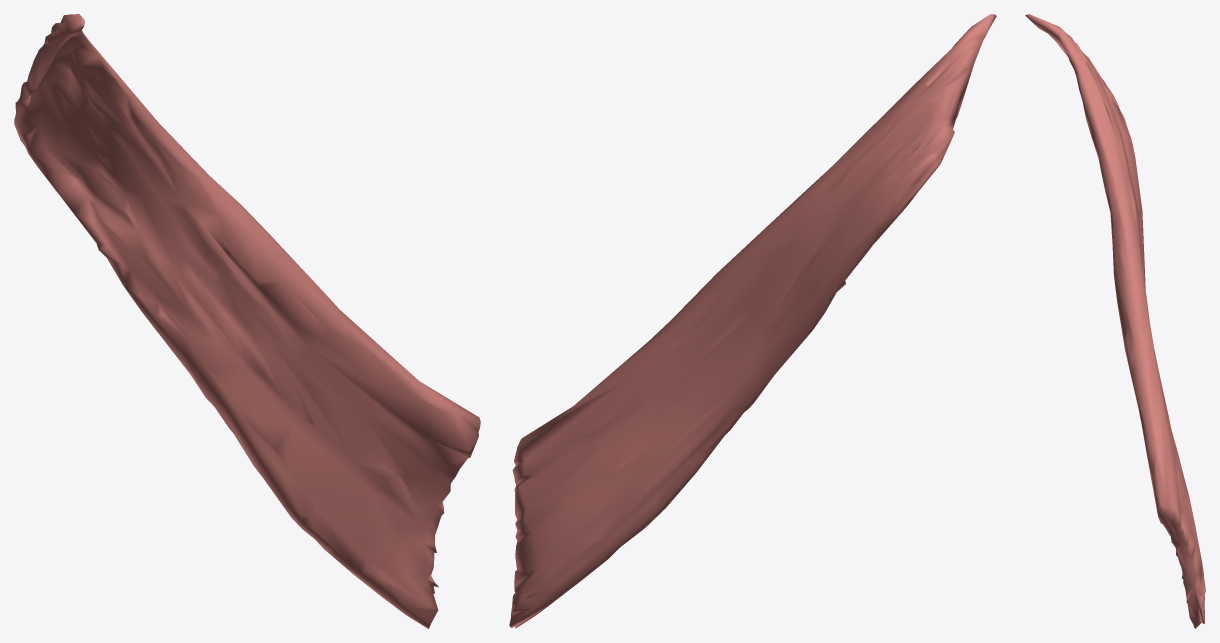
3 views of the same model, side by side, from view 1: azimuth 30°, elevation 25°; view 2: azimuth 150°, elevation 25°; view 3: azimuth 270°, elevation 25° (orthographic). The views are drawn at different scales.
Visible parts, largest first — view 1: ZA_52dfd085df8489d5; view 2: ZA_52dfd085df8489d5; view 3: ZA_52dfd085df8489d5.
Boxes of the visible parts, bbox=[...] form: ZA_52dfd085df8489d5: bbox=[14, 14, 480, 628]; ZA_52dfd085df8489d5: bbox=[509, 14, 996, 628]; ZA_52dfd085df8489d5: bbox=[1025, 14, 1205, 628].
Bounding box in the file's own units: 0.0654 × 0.1011 × 0.0347.
